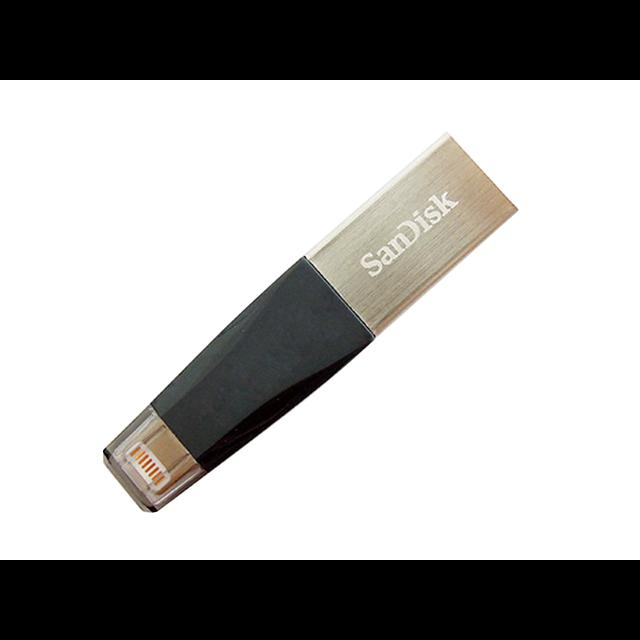USB-Flash-Drive: (102, 132, 518, 514)
